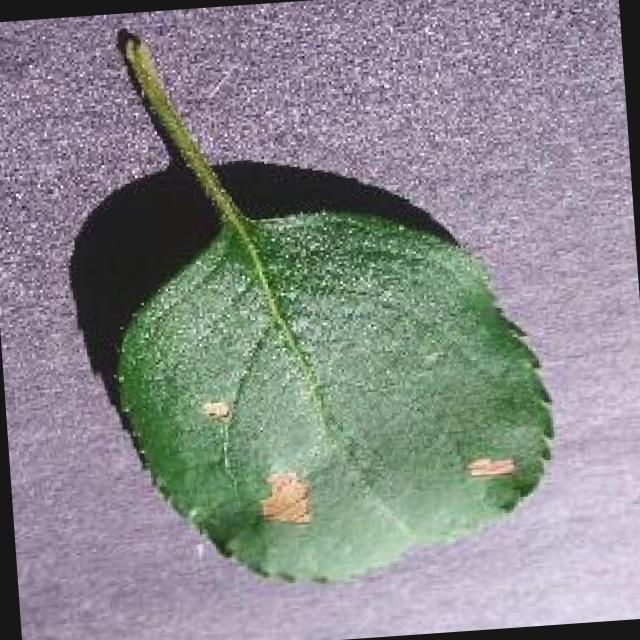leaf_spot: (123, 42, 553, 579)
